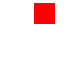square: (34, 3, 54, 23)
